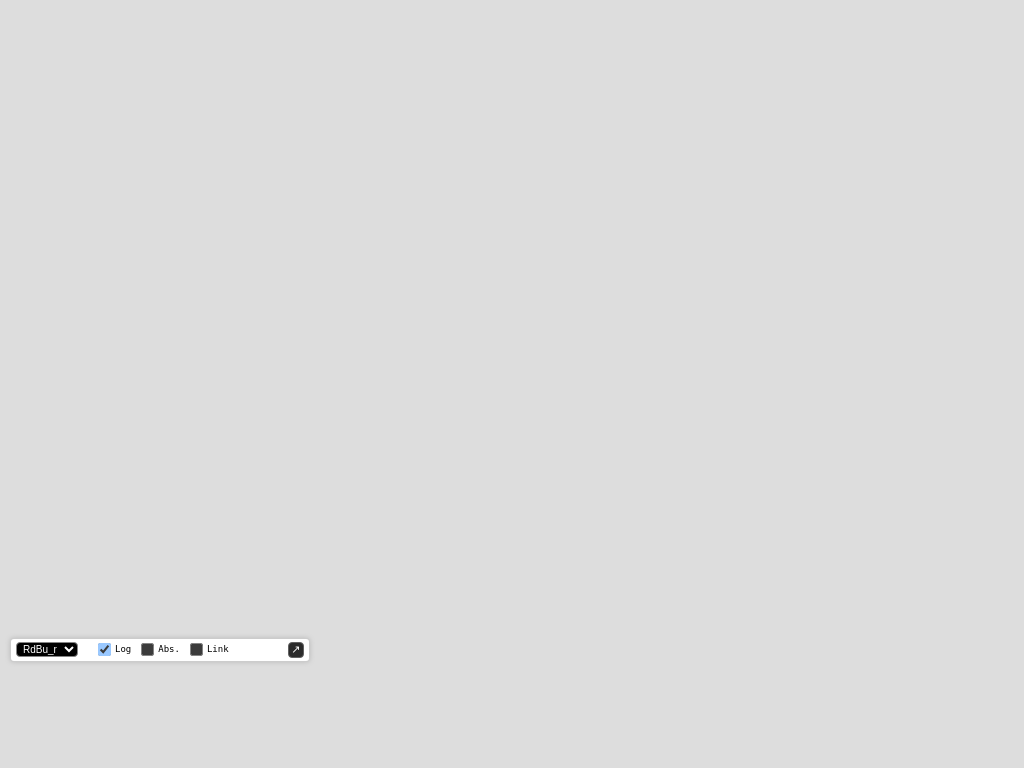
Test: dialog: normal use › opens with the current settings, showing log values as linear
What coordinates should you click on to do the following:
click the button with class "dialog-popout-btn"
I would click on:
 (296, 650)
Its box is [288, 642, 304, 658].
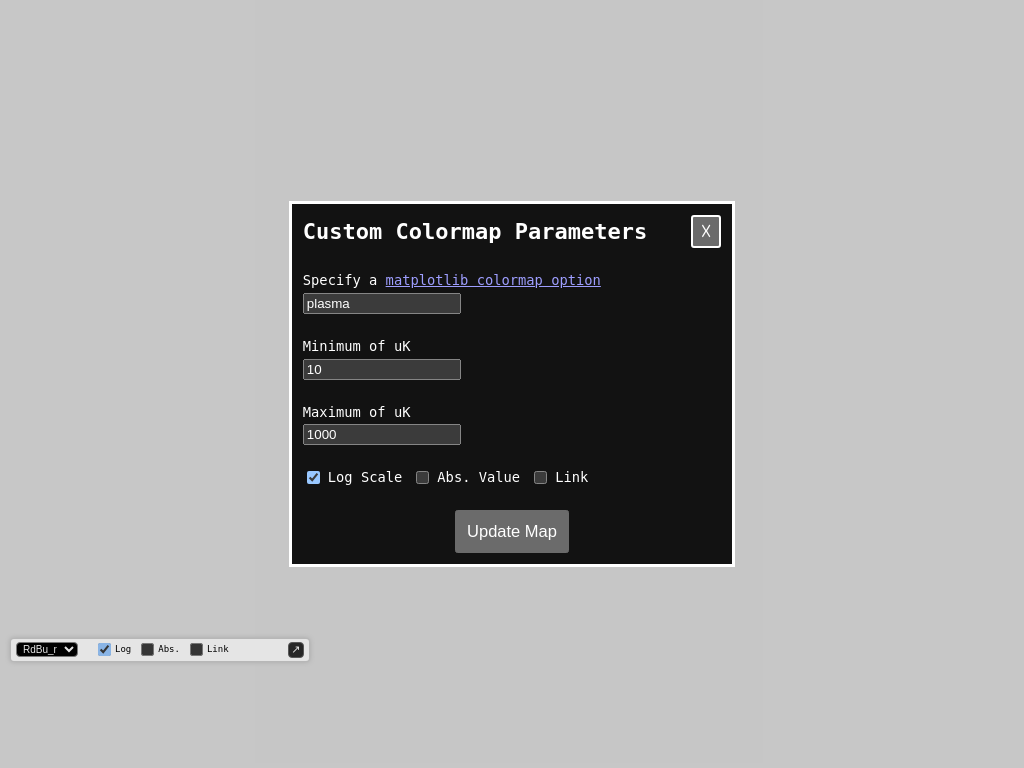
Expected: the field labelled "Specify a matplotlib colormap option" holds "plasma", [303, 293, 461, 314]
Expected: the checkbox labelled "Log Scale" is checked, [307, 470, 320, 485]
Expected: the submit button is enabled, [455, 510, 569, 553]
